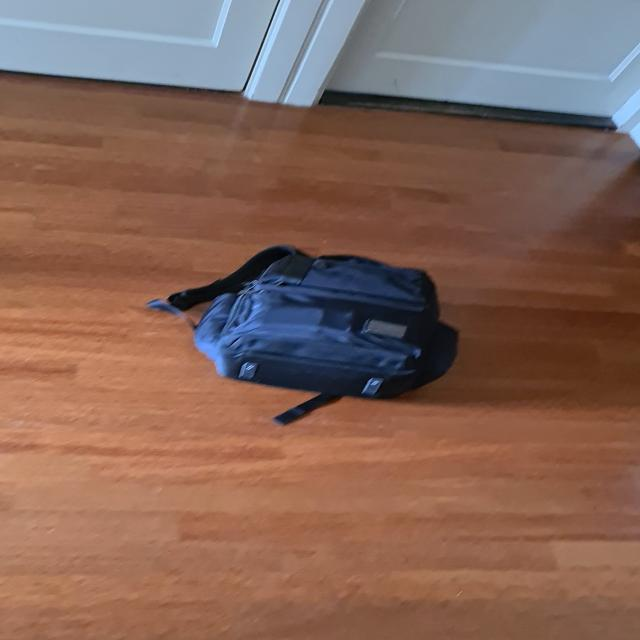backpack: (164, 236, 480, 432)
